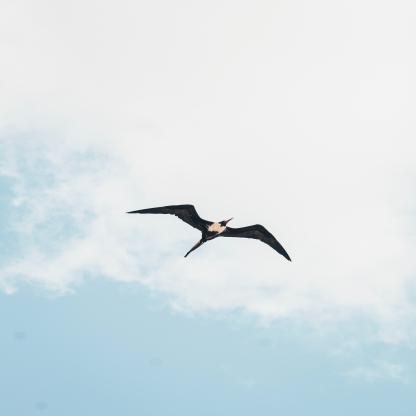bird: (126, 205, 292, 262)
